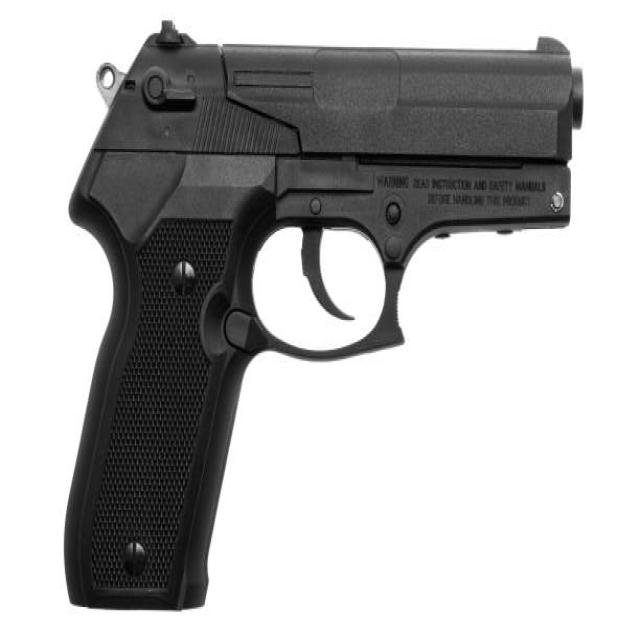pistol: (60, 18, 585, 614)
